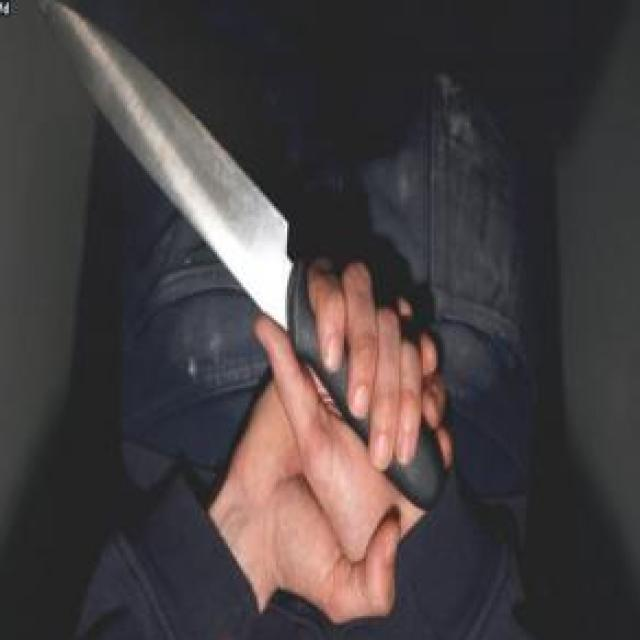knife: (26, 0, 456, 535)
